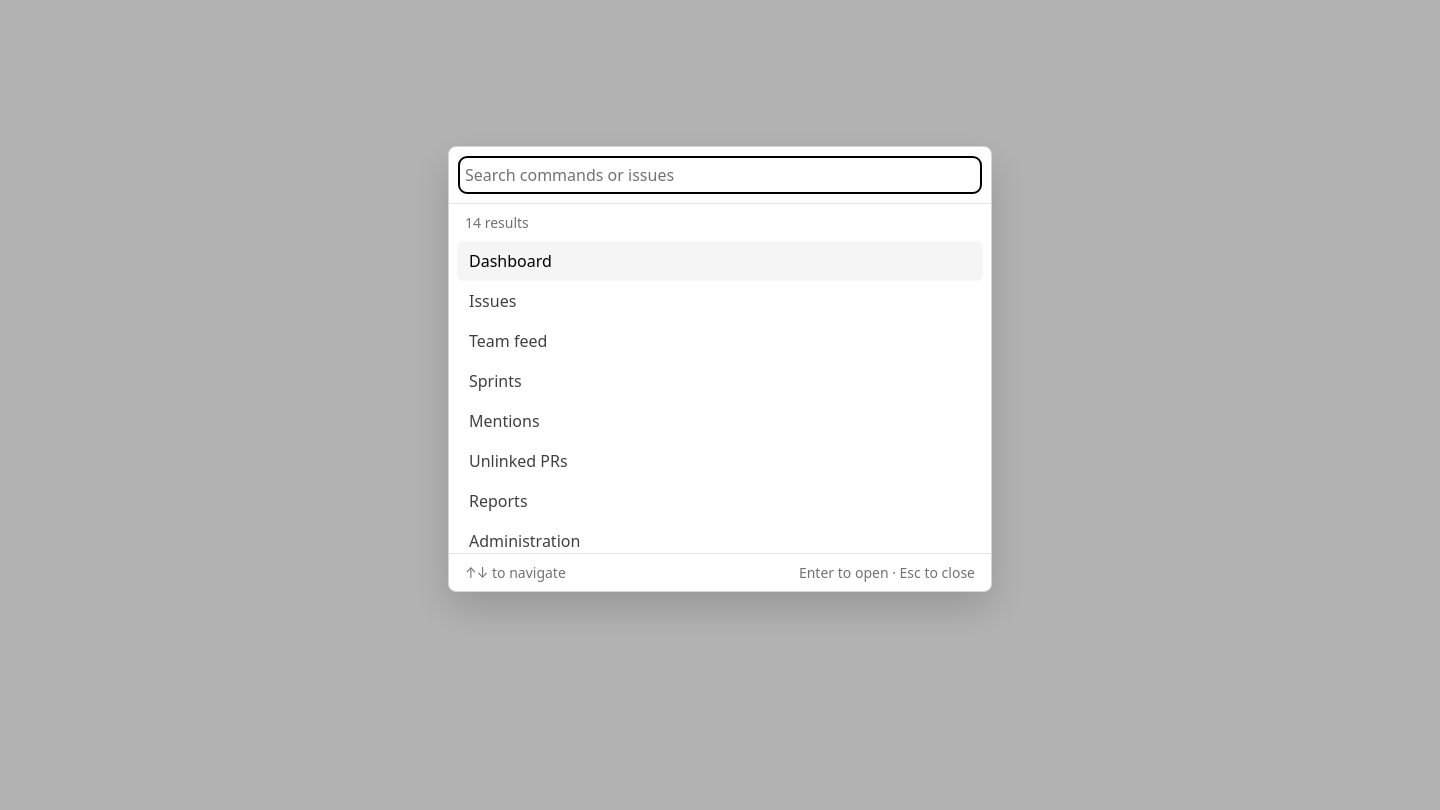
CommandPalette › filters commands by prefix and fuzzy text
In the dropdown with test id "command-palette-input": [720, 175] box x1=461 y1=159 x2=979 y2=191, type "rpts"
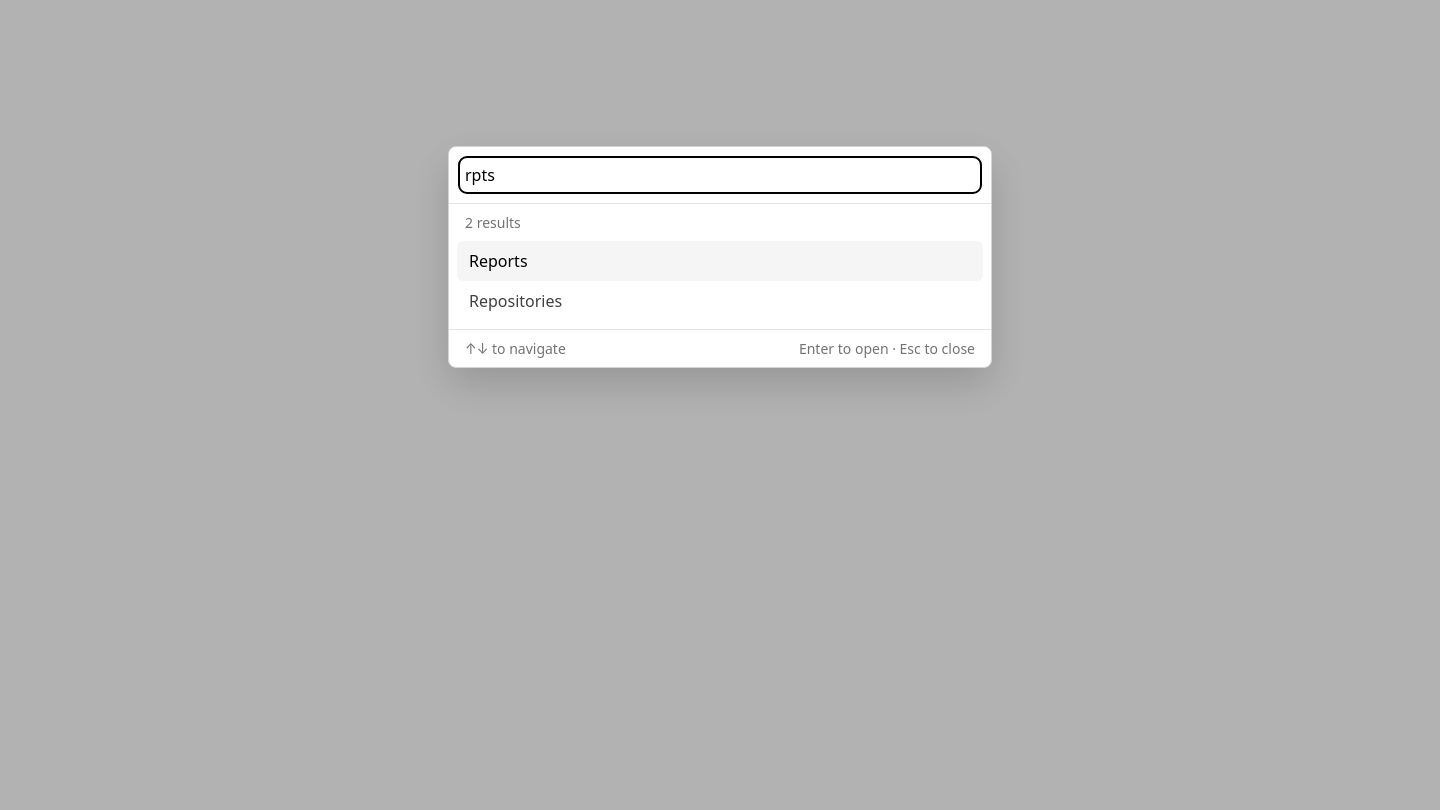
Expected: the option "Reports" is shown, x1=457 y1=241 x2=983 y2=281
Expected: the option "Dashboard" is gone
